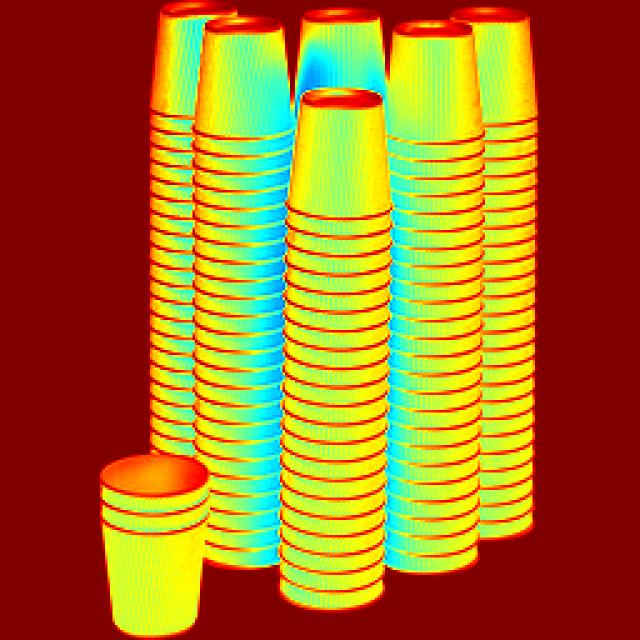Paper Cups: (110, 4, 549, 634)
